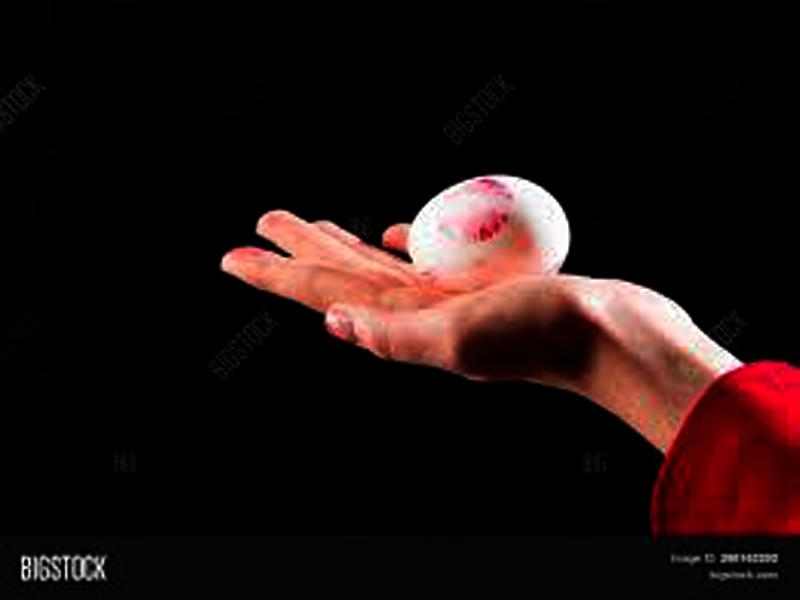Eggs: (412, 173, 572, 281)
